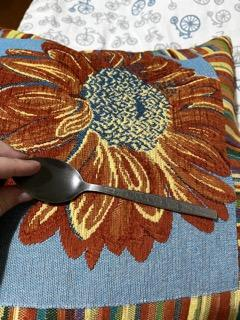spoon: (9, 155, 221, 224)
